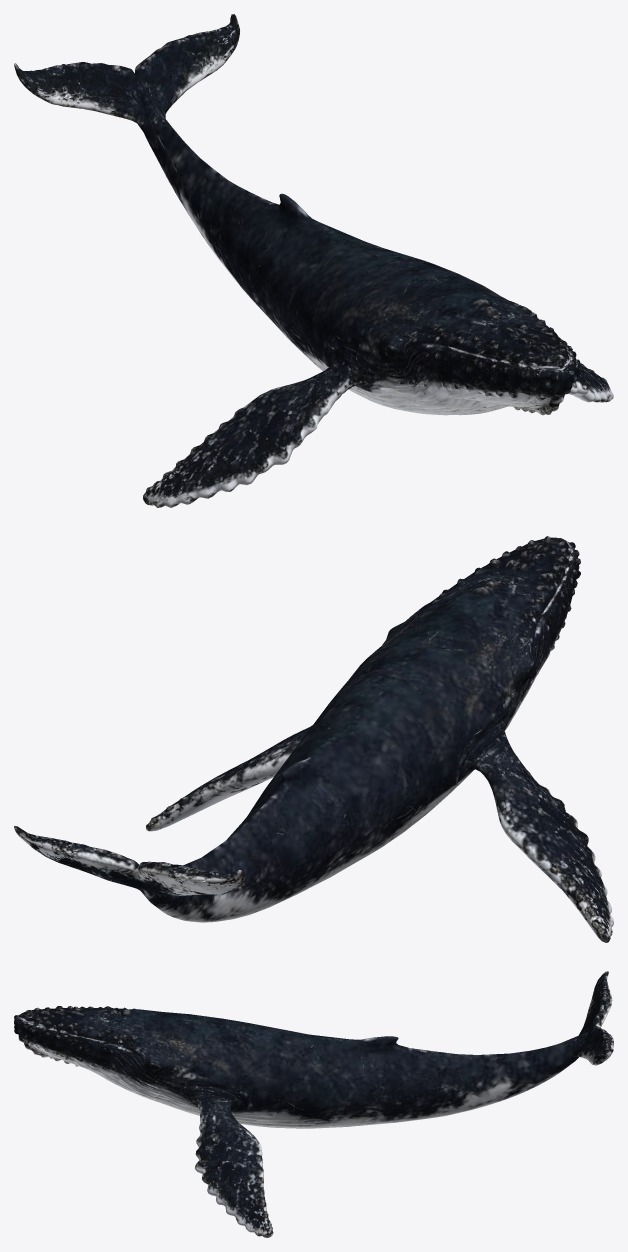
The model's file is whale-panel.glb.
3 views of the same model, one above another, from view 1: azimuth 30°, elevation 25°; view 2: azimuth 150°, elevation 25°; view 3: azimuth 270°, elevation 25° (orthographic). The views are drawn at different scales.
Parts seen in each view (by area): view 1: humpback-whale; view 2: humpback-whale; view 3: humpback-whale.
Boxes of the visible parts, x1,y1,x2,y2 form: humpback-whale: [14, 14, 613, 507]; humpback-whale: [14, 536, 613, 942]; humpback-whale: [14, 971, 613, 1237].
Bounding box in the file's own units: 8.46 × 3.97 × 14.
Materials: 1 (1 with a texture image).
